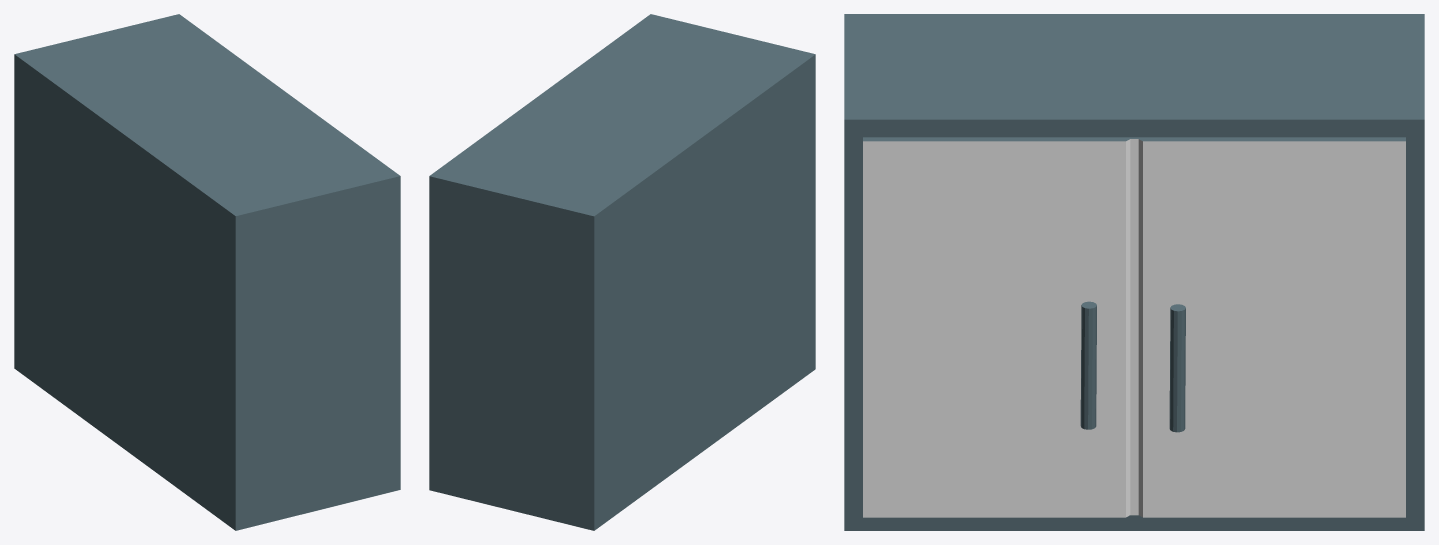
Rendered from counterWashroom.fbx.
3 renders of one model, left to right at view 1: azimuth 30°, elevation 25°; view 2: azimuth 150°, elevation 25°; view 3: azimuth 270°, elevation 25°, orthographic. The views are drawn at different scales.
Visible parts, largest first — view 1: Cube; view 2: Cube; view 3: Cube.
Part boxes in pixels (x1=…): Cube: x1=14, y1=14, x2=400, y2=530; Cube: x1=429, y1=14, x2=815, y2=530; Cube: x1=844, y1=14, x2=1424, y2=530.
Size of the model in its own units: 66.33 by 104 by 132.
